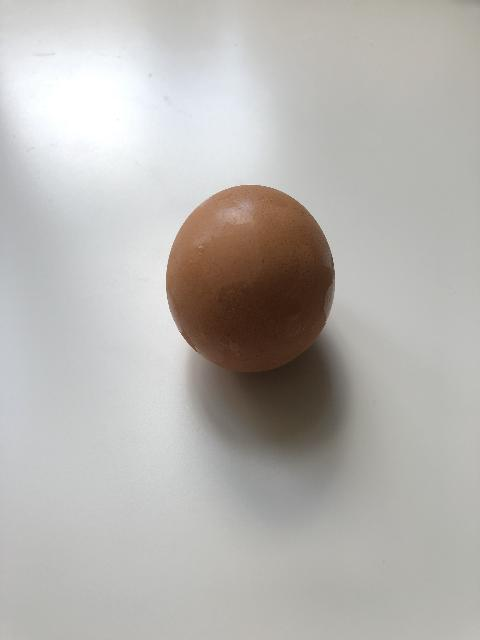Sano: (165, 183, 336, 374)
